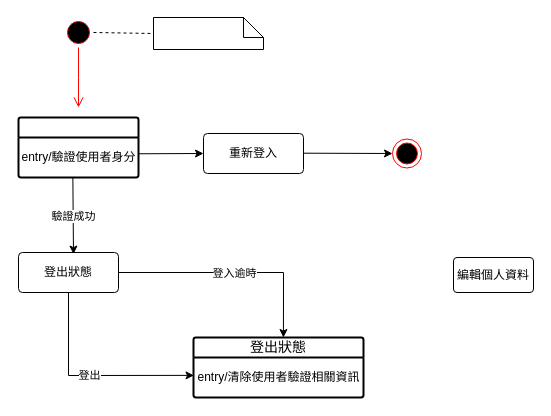
Image size: 551x416. Some labels were removed from this diagram. The box of each missing label's shape, as (x1, y1, x2, y2) in pixels:
Google登入: (152, 16, 264, 50)
驗證中: (17, 116, 139, 178)
